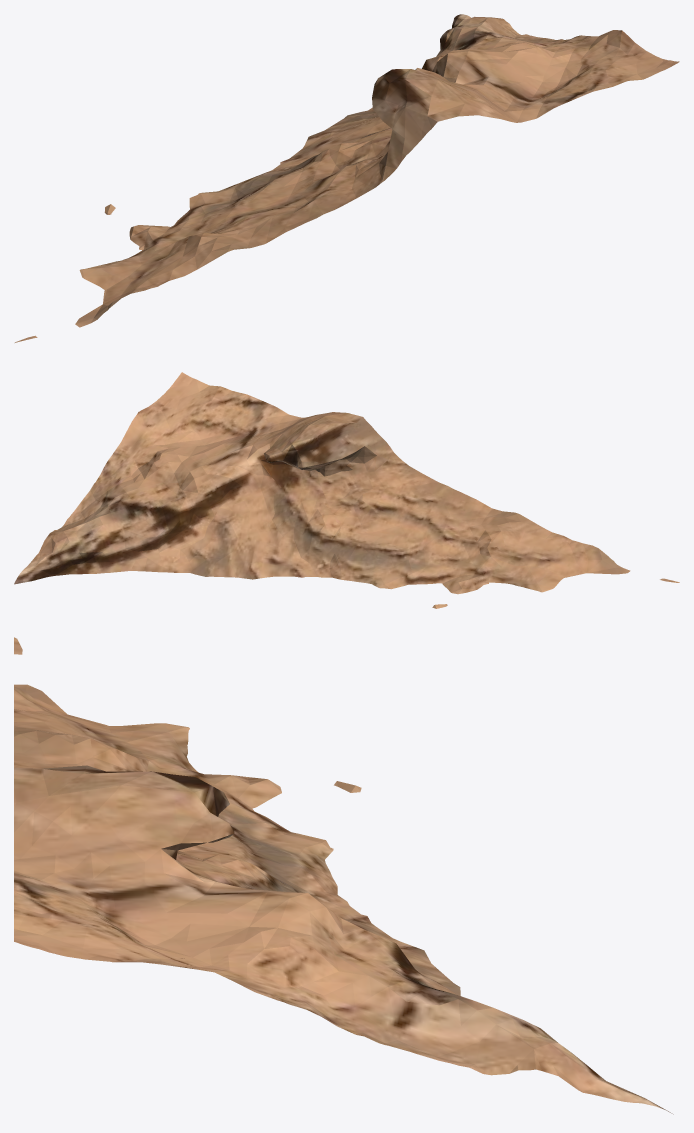
The picture shows the model from 3 angles, top to bottom: view 1: azimuth 30°, elevation 25°; view 2: azimuth 150°, elevation 25°; view 3: azimuth 270°, elevation 25°; orthographic projection. The views are drawn at different scales.
Bounding box in the file's own units: 0.6432 × 0.115 × 0.3757.
Materials: 1 (1 with a texture image).
